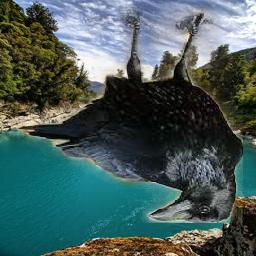Crow: (17, 7, 243, 223)
